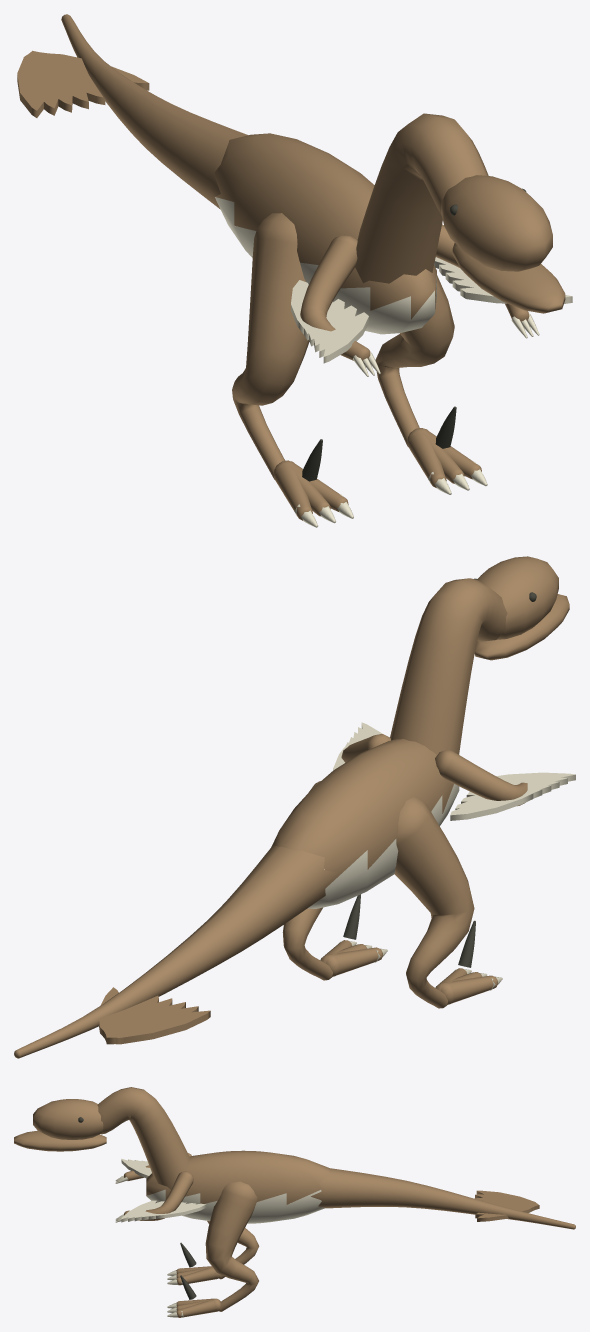
Rendered from velociraptor.glb.
The picture shows the model from 3 angles, top to bottom: view 1: azimuth 30°, elevation 25°; view 2: azimuth 150°, elevation 25°; view 3: azimuth 270°, elevation 25°; orthographic projection. The views are drawn at different scales.
Parts seen in each view (by area): view 1: velociraptor-feathered; view 2: velociraptor-feathered; view 3: velociraptor-feathered.
Part boxes in pixels (x1,y1,x2,y2): velociraptor-feathered: (17,14,572,527); velociraptor-feathered: (14,556,575,1058); velociraptor-feathered: (14,1087,575,1317).
Size of the model in its own units: 0.512 by 0.8194 by 2.
